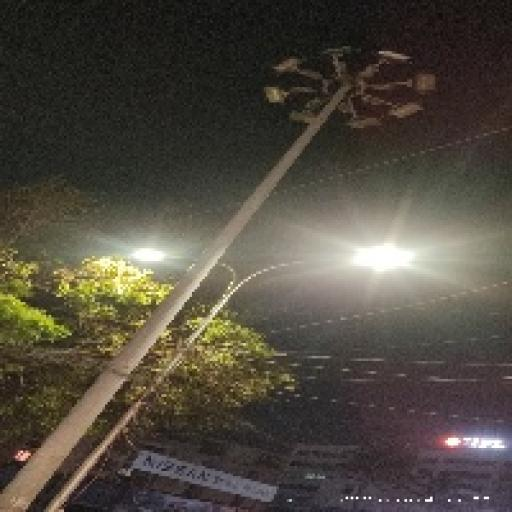Not Working: (412, 63, 440, 100), (342, 111, 382, 136), (369, 42, 410, 66), (269, 52, 308, 77), (316, 40, 358, 62), (386, 100, 424, 124), (286, 105, 316, 130), (257, 81, 285, 107)
Working: (122, 244, 172, 267)
